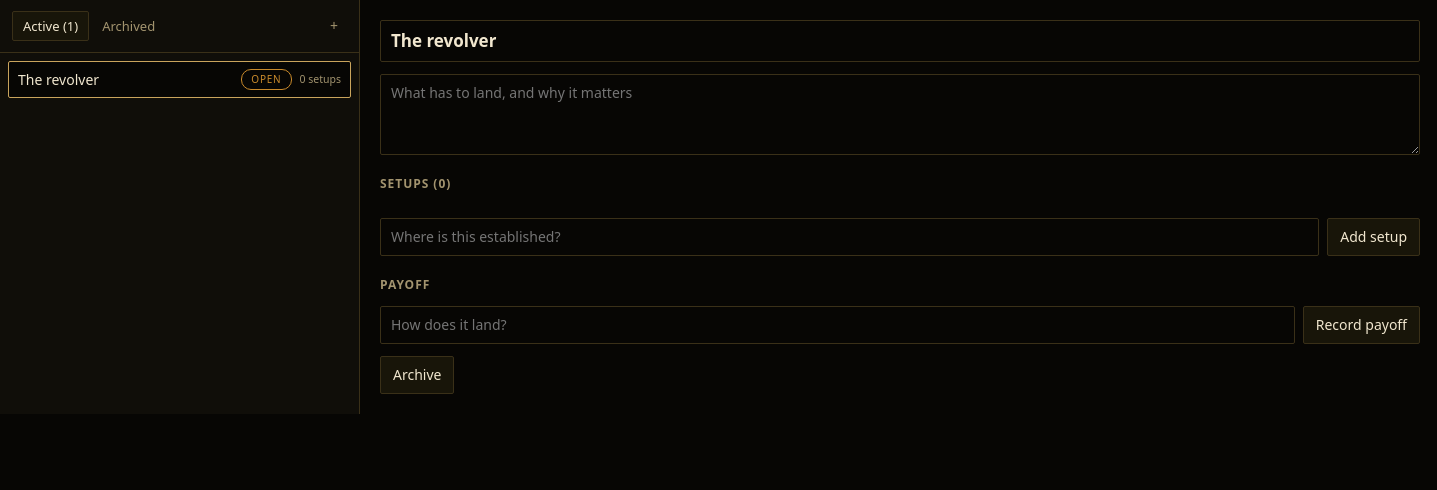
it: setups and payoffs panel › tracks a setup, records the payoff, then reopens it with the setup intact
The image size is (1437, 490).
Type "Drawer opens in act one" into the field named "New setup" at (850, 237), box [380, 218, 1319, 256]
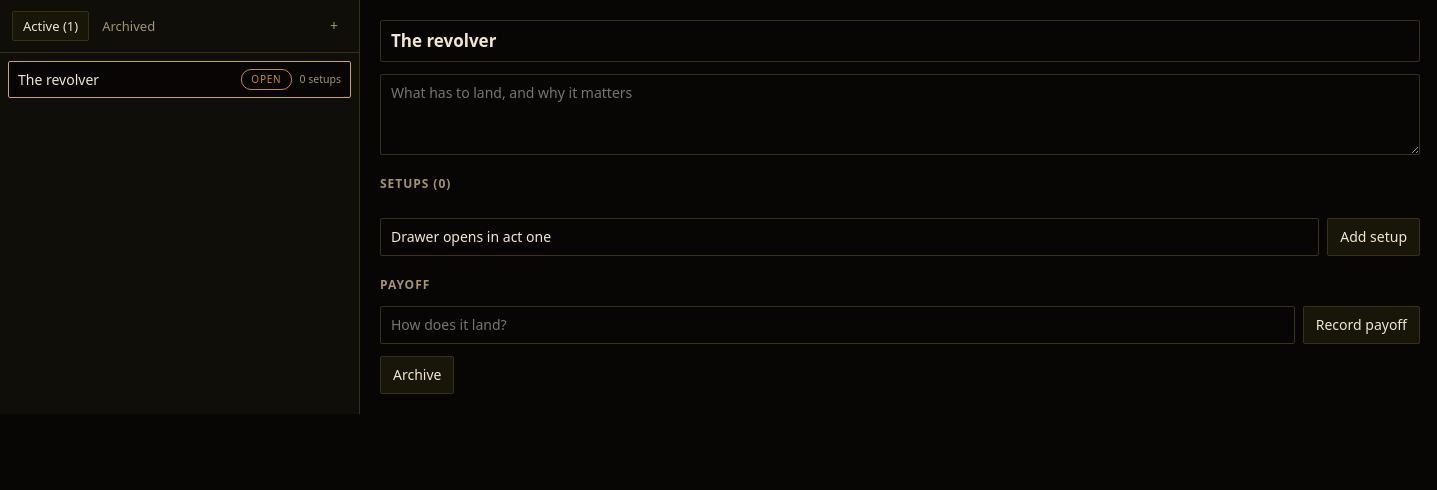
Click the button "Add setup" at (1374, 237), box [1327, 218, 1420, 256]
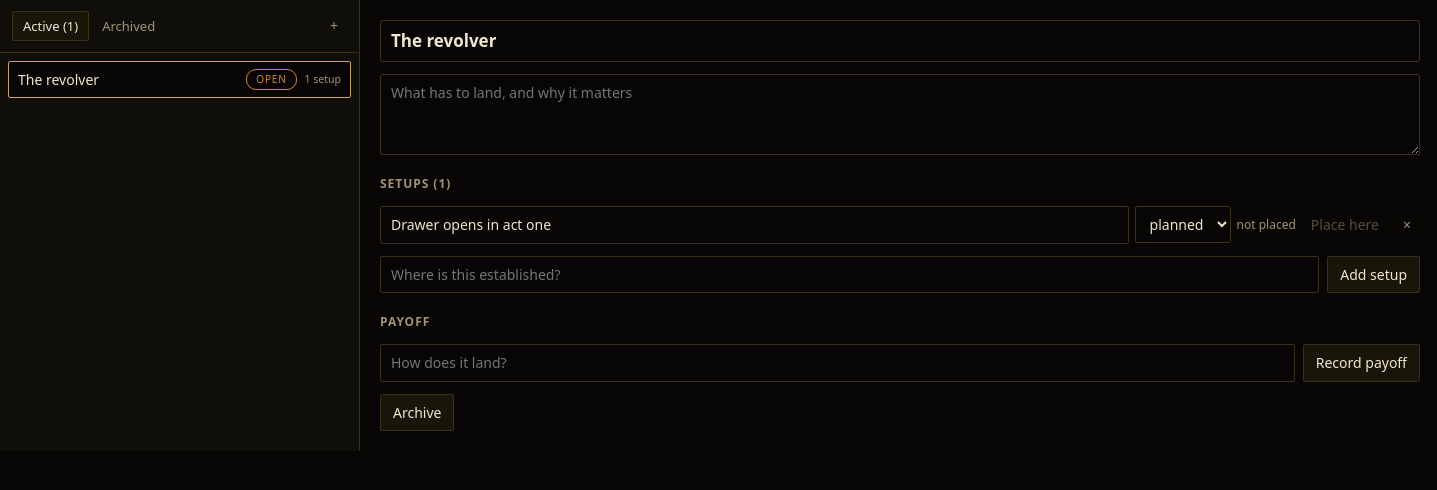
expect the field showing "Drawer opens in act one" is shown: met, box [380, 206, 1129, 244]
Type "Fired in the finale" into the field named "Payoff" at (837, 363), box [380, 344, 1295, 382]
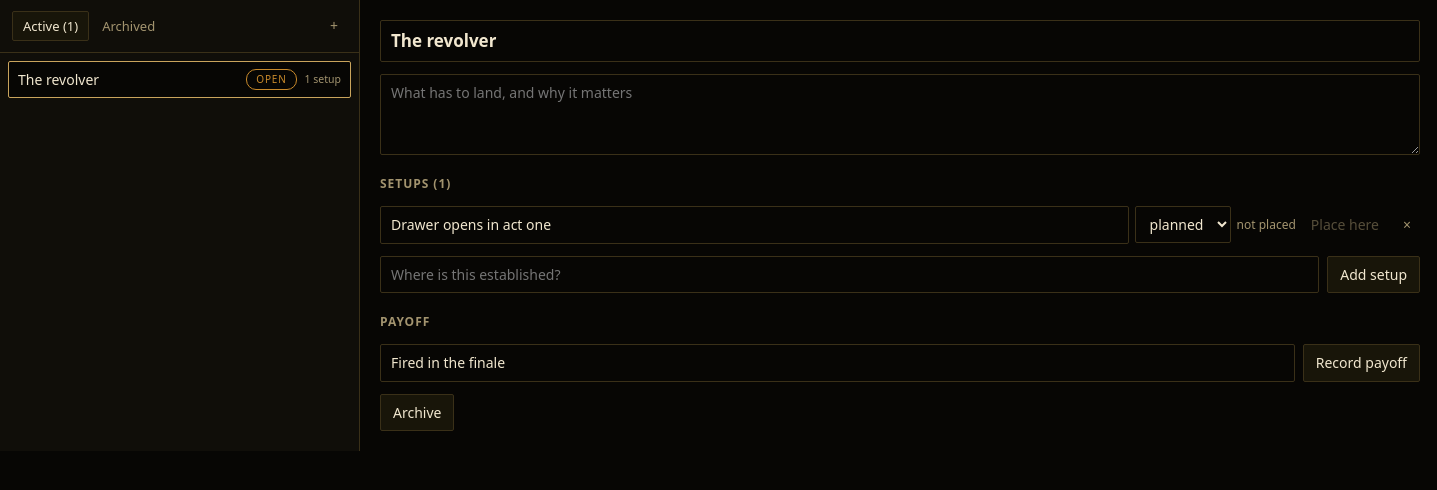
Click the button "Record payoff" at (1361, 363), box [1303, 344, 1420, 382]
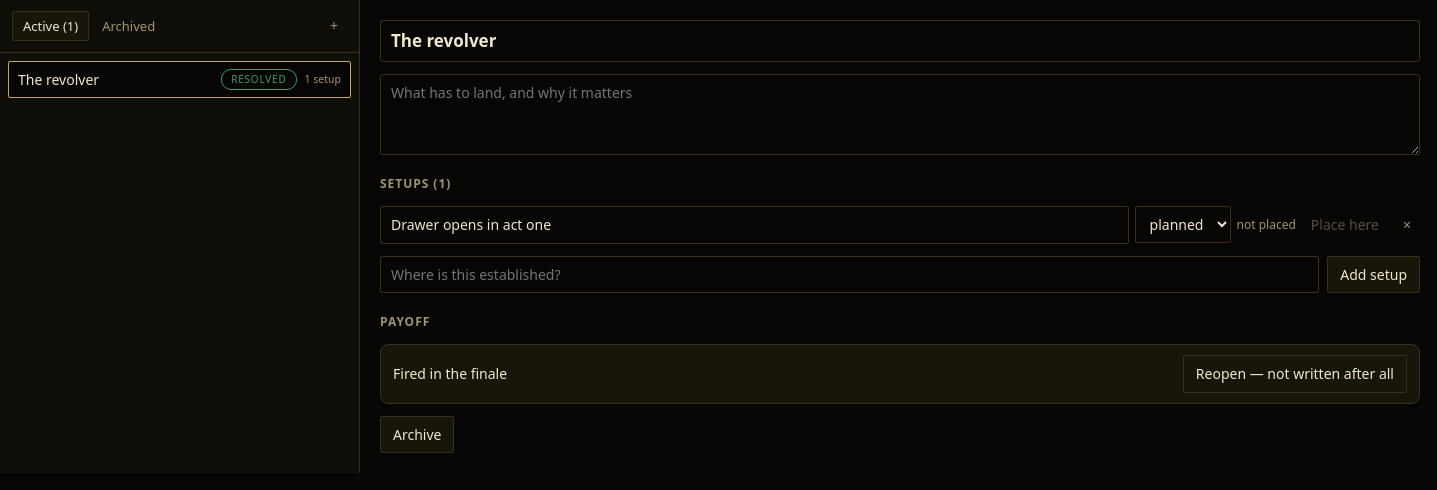
expect the tab "Active (1)" is shown: met, box [12, 11, 89, 41]
expect the text "Fired in the finale" is shown: met, box [393, 363, 507, 385]
Click the button "Reopen — not written after all" at (1295, 374), box [1183, 355, 1407, 393]
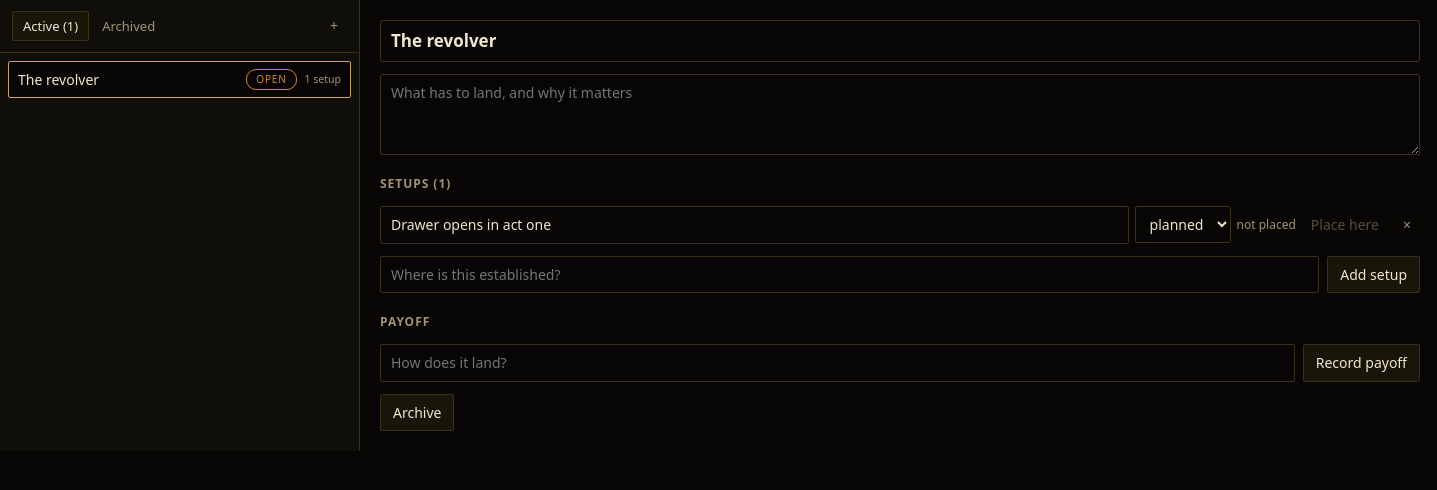
expect the field showing "Drawer opens in act one" is shown: met, box [380, 206, 1129, 244]
expect the field named "Payoff" is shown: met, box [380, 344, 1295, 382]
